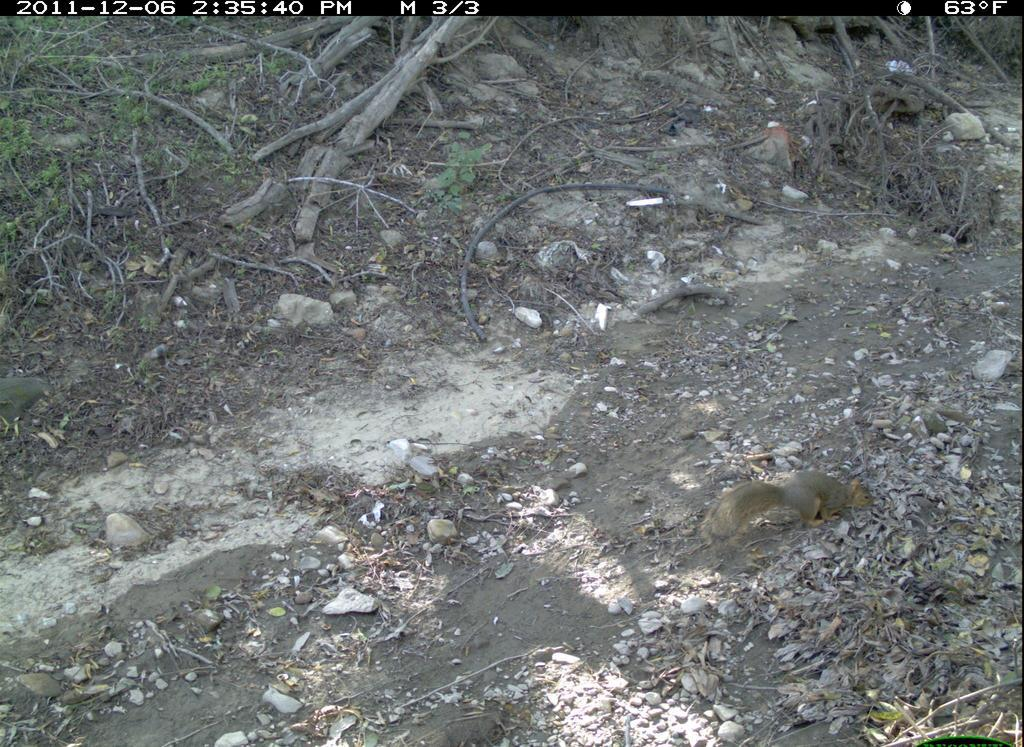squirrel: (693, 472, 875, 548)
